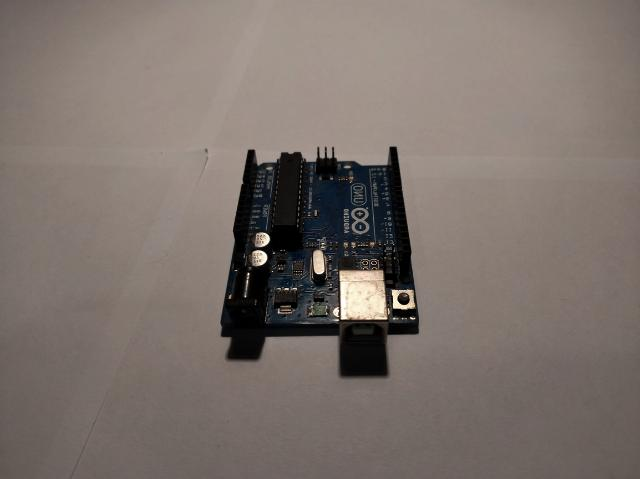arduino: (220, 146, 418, 346)
